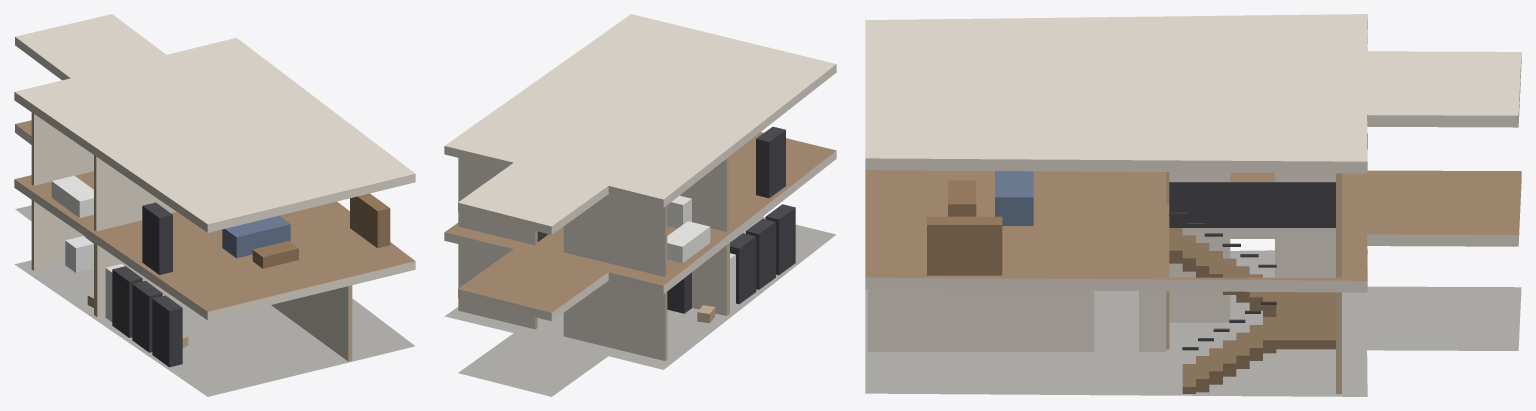
The model's file is interior.glb.
3 renders of one model, left to right at view 1: azimuth 30°, elevation 25°; view 2: azimuth 150°, elevation 25°; view 3: azimuth 270°, elevation 25°, orthographic. The views are drawn at different scales.
Parts seen in each view (by area): view 1: slabs, partitions, coarse-s1, coarse-s0; view 2: slabs, partitions, coarse-s0, coarse-s1; view 3: slabs, partitions, stair, coarse-s1.
Boxes of the visible parts, x1=… form: slabs: x1=14, y1=14, x2=415, y2=396; partitions: x1=31, y1=112, x2=352, y2=361; coarse-s1: x1=51, y1=175, x2=390, y2=274; coarse-s0: x1=65, y1=236, x2=188, y2=367; slabs: x1=444, y1=14, x2=836, y2=396; partitions: x1=458, y1=157, x2=729, y2=360; coarse-s0: x1=667, y1=204, x2=795, y2=323; coarse-s1: x1=667, y1=126, x2=785, y2=263; slabs: x1=865, y1=14, x2=1521, y2=396; partitions: x1=868, y1=172, x2=1341, y2=393; stair: x1=1169, y1=182, x2=1335, y2=393; coarse-s1: x1=927, y1=171, x2=1033, y2=275.
Size of the model in its own units: 7.04 by 5.25 by 13.22.
